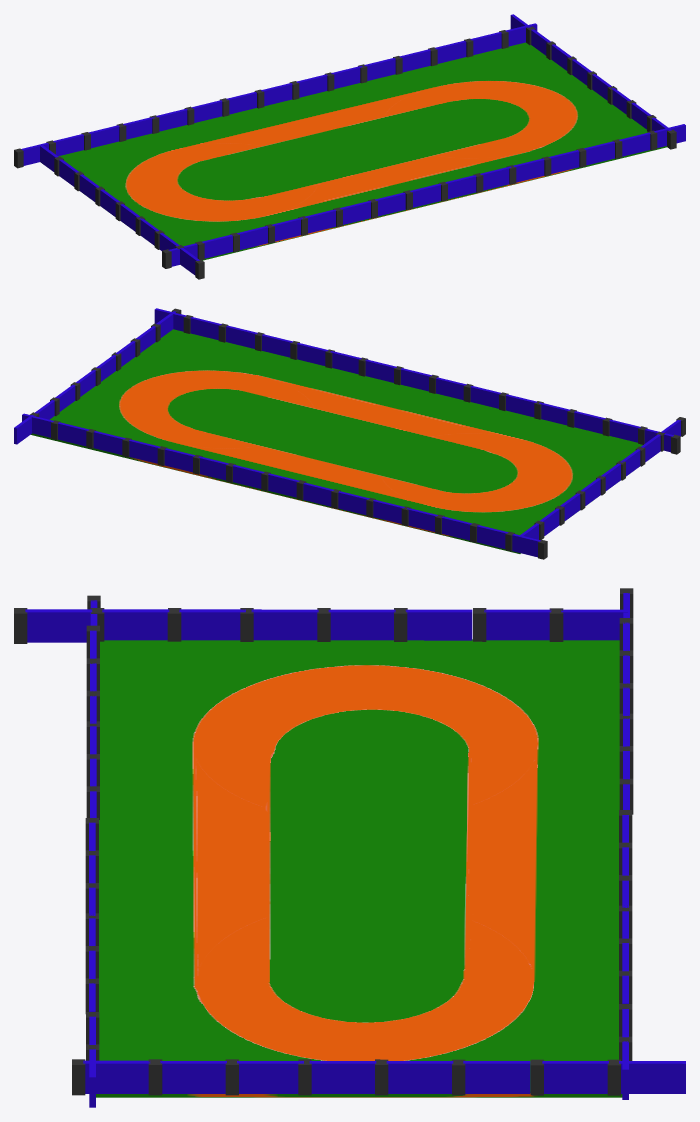
The model's file is track 1.fbx.
3 renders of one model, top to bottom at view 1: azimuth 30°, elevation 25°; view 2: azimuth 150°, elevation 25°; view 3: azimuth 270°, elevation 25°, orthographic. The views are drawn at different scales.
Parts seen in each view (by area): view 1: floor, 立方体, 立方体.001, 立方体.012, 立方体.003, 立方体.005, 立方体.004, 立方体.006, 立方体.027, 立方体.010, 立方体.009, 立方体.007 (+25 smaller); view 2: floor, 立方体.027, 立方体.022, 立方体.023, 立方体.031, 立方体.028, 立方体.026, 立方体.032, 立方体.034, 立方体.033, 立方体.025, 立方体.037 (+29 smaller); view 3: floor, 立方体.019, 立方体.015, 立方体.020, 立方体.018, 立方体.017, 立方体.038, 立方体.043, 立方体.041, 立方体.016, 立方体.044, 立方体.042 (+5 smaller).
Boxes of the visible parts, bbox=[...] form: floor: bbox=[58, 42, 666, 260]; 立方体: bbox=[403, 183, 441, 209]; 立方体.001: bbox=[438, 175, 476, 201]; 立方体.012: bbox=[613, 132, 650, 158]; 立方体.003: bbox=[506, 158, 544, 184]; 立方体.005: bbox=[576, 141, 614, 167]; 立方体.004: bbox=[541, 150, 579, 176]; 立方体.006: bbox=[195, 234, 232, 259]; 立方体.027: bbox=[428, 40, 466, 66]; 立方体.010: bbox=[333, 201, 370, 227]; 立方体.009: bbox=[298, 209, 336, 235]; 立方体.007: bbox=[230, 226, 268, 252]; floor: bbox=[31, 329, 642, 553]; 立方体.027: bbox=[93, 431, 131, 457]; 立方体.022: bbox=[268, 473, 306, 499]; 立方体.023: bbox=[233, 464, 270, 491]; 立方体.031: bbox=[373, 499, 411, 526]; 立方体.028: bbox=[477, 525, 514, 551]; 立方体.026: bbox=[129, 439, 166, 465]; 立方体.032: bbox=[338, 491, 375, 517]; 立方体.034: bbox=[57, 422, 95, 448]; 立方体.033: bbox=[303, 482, 340, 508]; 立方体.025: bbox=[164, 448, 202, 474]; 立方体.037: bbox=[512, 534, 547, 559]; floor: bbox=[96, 639, 622, 1097]; 立方体.019: bbox=[452, 1059, 530, 1095]; 立方体.015: bbox=[148, 1059, 226, 1095]; 立方体.020: bbox=[530, 1059, 608, 1095]; 立方体.018: bbox=[375, 1059, 453, 1095]; 立方体.017: bbox=[298, 1059, 376, 1095]; 立方体.038: bbox=[14, 608, 92, 643]; 立方体.043: bbox=[394, 608, 472, 641]; 立方体.041: bbox=[240, 608, 318, 641]; 立方体.016: bbox=[225, 1059, 303, 1095]; 立方体.044: bbox=[473, 608, 551, 641]; 立方体.042: bbox=[317, 608, 395, 641].
Bounding box in the file's own units: 347 × 11.5 × 201.
